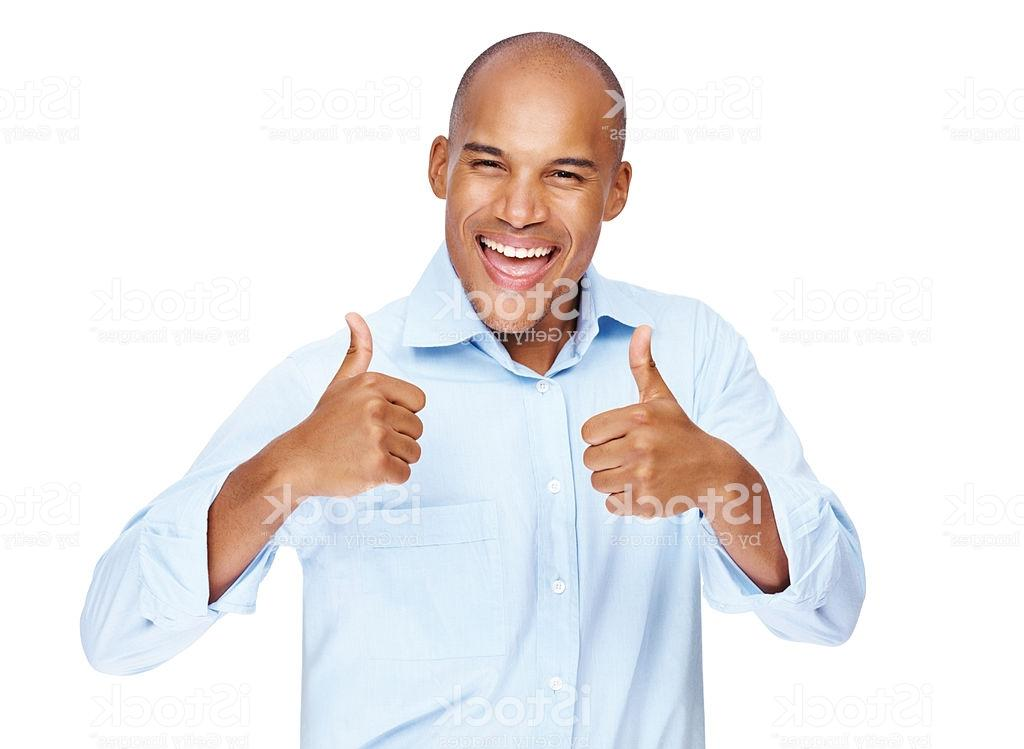thumbsup: (579, 323, 660, 517), (343, 311, 426, 484)
